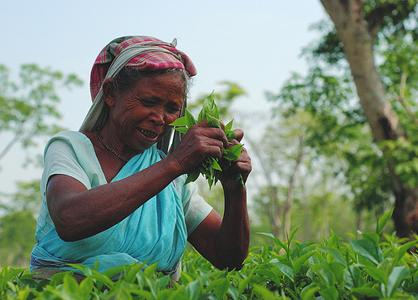person: (30, 36, 254, 280)
